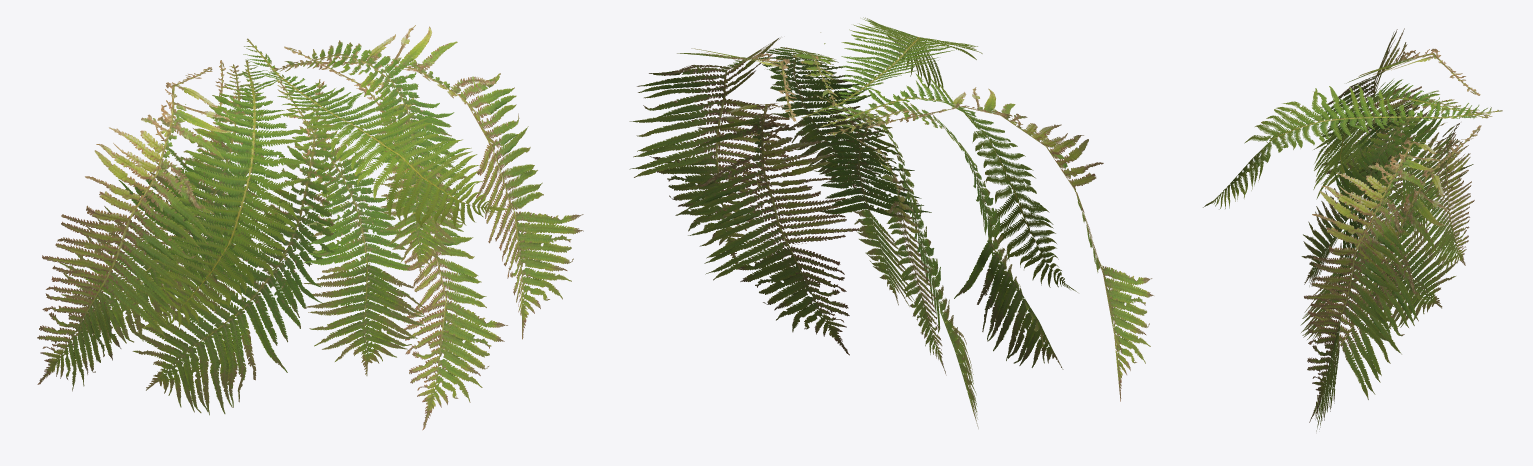
Rendered from sm_Fern_01_03.fbx.
3 renders of one model, left to right at view 1: azimuth 30°, elevation 25°; view 2: azimuth 150°, elevation 25°; view 3: azimuth 270°, elevation 25°, orthographic. The views are drawn at different scales.
Parts seen in each view (by area): view 1: sm_Fern_01_03_LOD0; view 2: sm_Fern_01_03_LOD0; view 3: sm_Fern_01_03_LOD0.
Boxes of the visible parts, x1,y1,x2,y2 form: sm_Fern_01_03_LOD0: [37, 25, 583, 430]; sm_Fern_01_03_LOD0: [629, 17, 1153, 428]; sm_Fern_01_03_LOD0: [1203, 28, 1502, 431].
Size of the model in its own units: 164 by 100 by 106.
